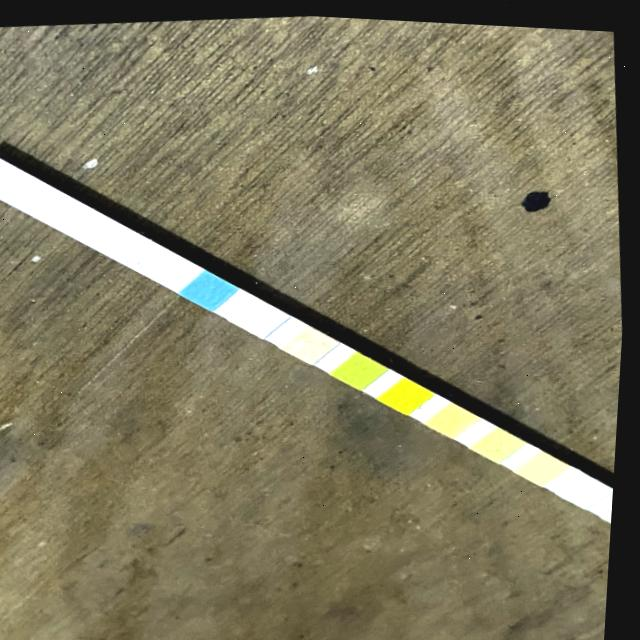Bilirubin: (247, 304, 279, 326)
Blood: (392, 381, 426, 402)
Glucose: (196, 276, 225, 301)
Ketone: (294, 330, 330, 352)
Nitrite: (576, 474, 605, 494)
Protein: (486, 429, 517, 449)
SpGravity: (343, 356, 380, 378)
Urobilinogen: (530, 451, 562, 473)
pH: (439, 404, 471, 426)
